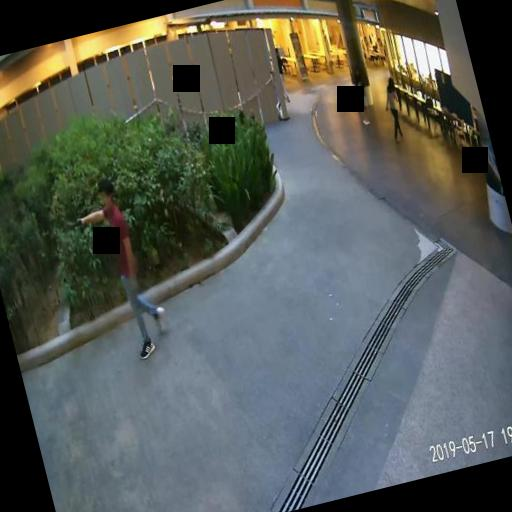Handgun: (68, 215, 84, 230)
